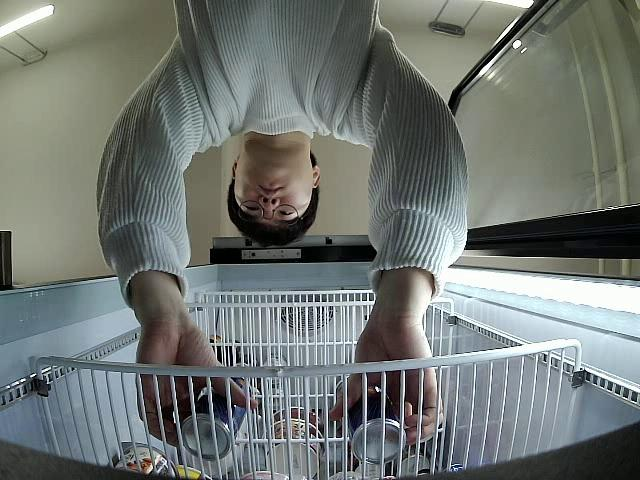00_hand: (136, 323, 259, 445), (333, 323, 445, 445)
16_hot6: (335, 377, 405, 465), (182, 369, 247, 462)
